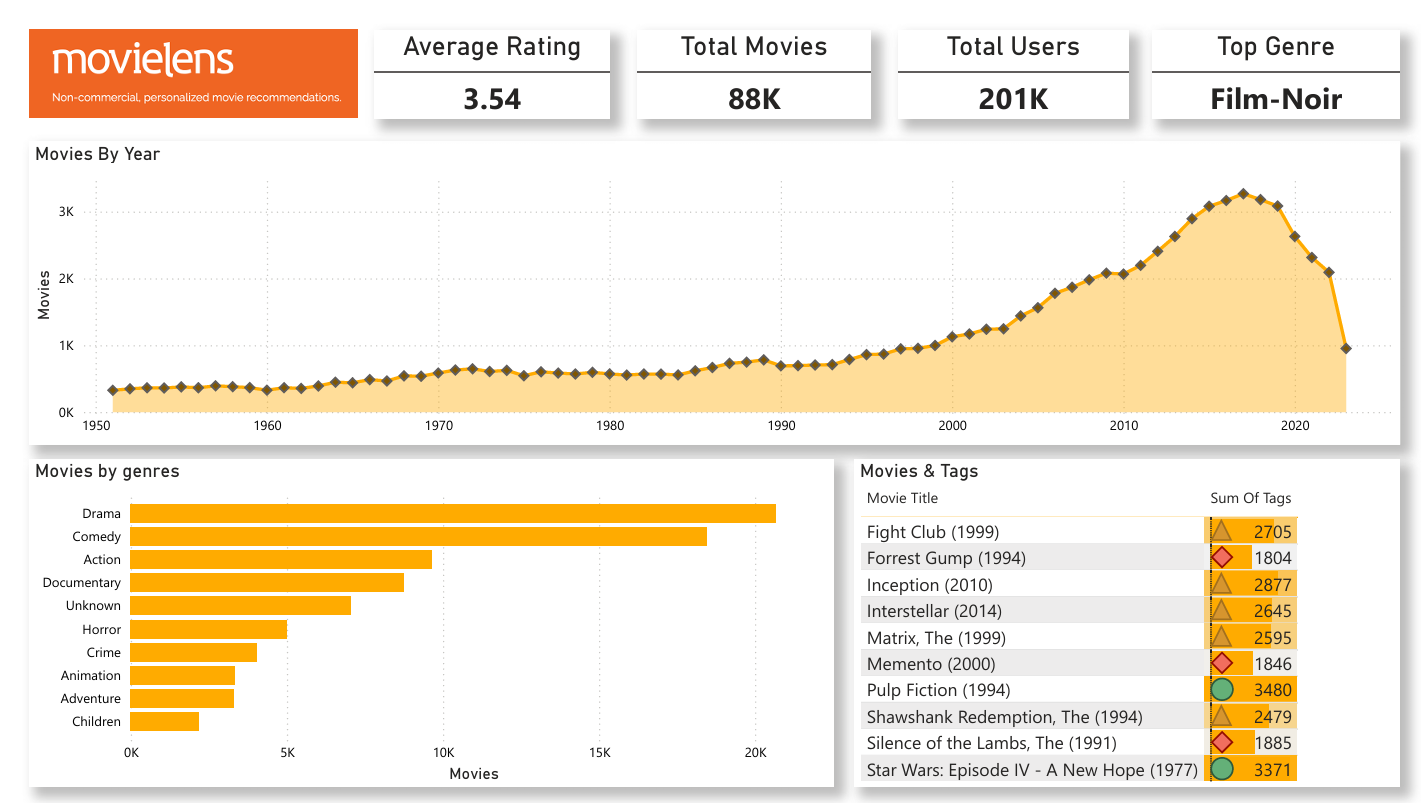

The page's visual inventory and layout, read from the dashboard file:
{"tool":"powerbi","page":{"name":"Page 1","canvas":[1280,720],"ordinal":0},"visuals":[{"type":"lineChart","title":"Movies By Year","fields":{"Y":["Sum(public v_d1_movies_by_year.movies_count)"],"Category":["public v_d1_movies_by_year.releaseyear"]},"box":[22,123.4,1244,275.5],"z":0},{"type":"clusteredBarChart","fields":{"Category":["public v_d1_top_genres.genres"],"Y":["Sum(public v_d1_top_genres.movies_count)"]},"box":[22,410.7,730.1,297.5],"z":1000},{"type":"tableEx","title":"Movies & Tags","fields":{"Values":["public v_d1_top_tagged_movies.title","Sum(public v_d1_top_tagged_movies.tags_count)"]},"box":[770.7,410.7,495.2,297.5],"z":2000},{"type":"card","title":"Average Rating","fields":{"Values":["Sum(public v_kpi_global_metrics.global_average_rating)"]},"box":[334.6,21.5,213.7,79.5],"z":3000},{"type":"card","title":"Total Movies","fields":{"Values":["Sum(public v_kpi_global_metrics.total_movies)"]},"box":[573.1,21.5,212,79.5],"z":4000},{"type":"card","title":"Total Users","fields":{"Values":["Sum(public v_kpi_global_metrics.total_users)"]},"box":[810,21.5,208.7,79.5],"z":5000},{"type":"card","title":"Top Genre","fields":{"Values":["Min(public v_kpi_top_genre.top_genre)"]},"box":[1040.3,21.5,225.3,79.5],"z":6000},{"type":"image","box":[21.5,0,298.2,122.6],"z":6001}]}

Visuals, with their boxes in screenshot pixels (x1, y1, x2, y2), scaled from the page's 1280x720 canvas onto the 1421x803 screenshot:
"Movies By Year" lineChart: select_region(24, 138, 1405, 445)
clusteredBarChart - public v_d1_top_genres.genres x Sum(public v_d1_top_genres.movies_count): select_region(24, 458, 835, 790)
"Movies & Tags" tableEx: select_region(856, 458, 1405, 790)
"Average Rating" card: select_region(371, 24, 609, 113)
"Total Movies" card: select_region(636, 24, 872, 113)
"Total Users" card: select_region(899, 24, 1131, 113)
"Top Genre" card: select_region(1155, 24, 1405, 113)
image: select_region(24, 0, 355, 137)
